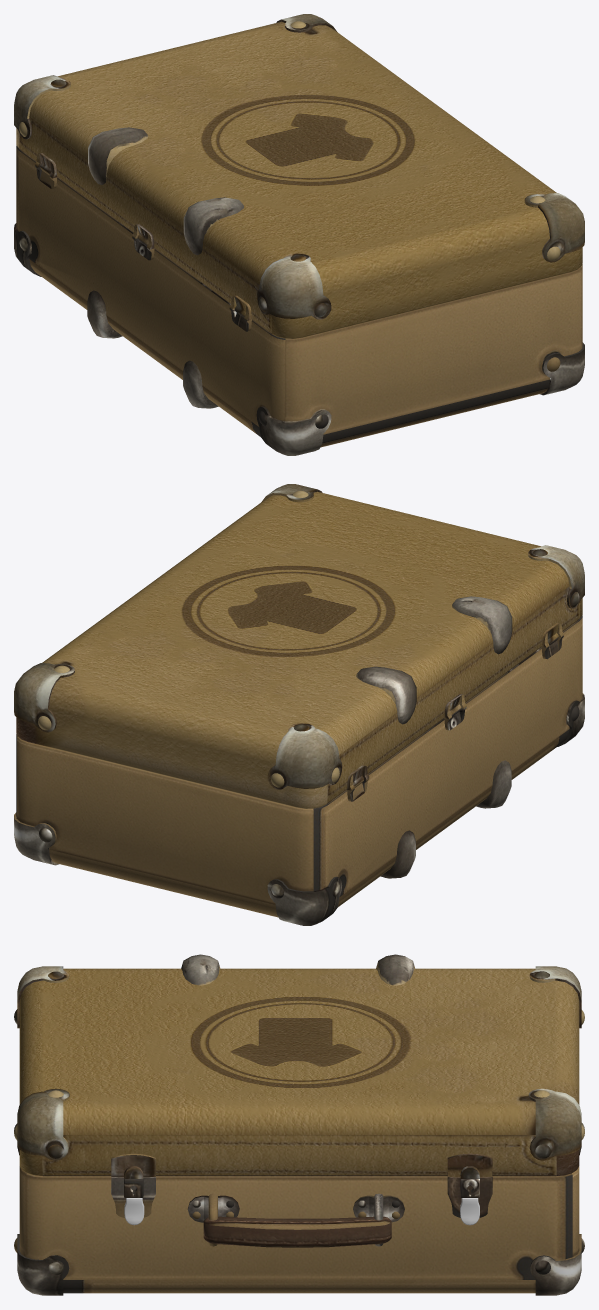
Rendered from Clothes_Case.fbx.
The picture shows the model from 3 angles, top to bottom: view 1: azimuth 30°, elevation 25°; view 2: azimuth 150°, elevation 25°; view 3: azimuth 270°, elevation 25°; orthographic projection.
Visible parts, largest first — view 1: Case_cap, Case_body; view 2: Case_cap, Case_body; view 3: Case_cap, Case_body, Case_clip_L, Case_clip_R.
Boxes of the visible parts, bbox=[...] form: Case_cap: bbox=[14, 14, 584, 338]; Case_body: bbox=[14, 145, 584, 455]; Case_cap: bbox=[14, 484, 584, 808]; Case_body: bbox=[14, 615, 584, 925]; Case_cap: bbox=[14, 954, 584, 1178]; Case_body: bbox=[14, 1123, 584, 1295]; Case_clip_L: bbox=[124, 1198, 144, 1225]; Case_clip_R: bbox=[460, 1198, 479, 1225].
Size of the model in its own units: 53.52 by 28.02 by 70.12.
2 materials, 2 textured.
